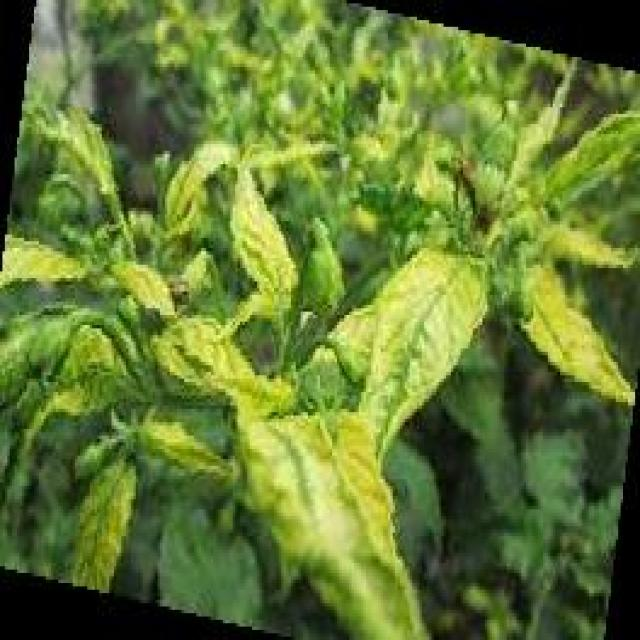Rust: (252, 403, 416, 640), (232, 164, 302, 314)
